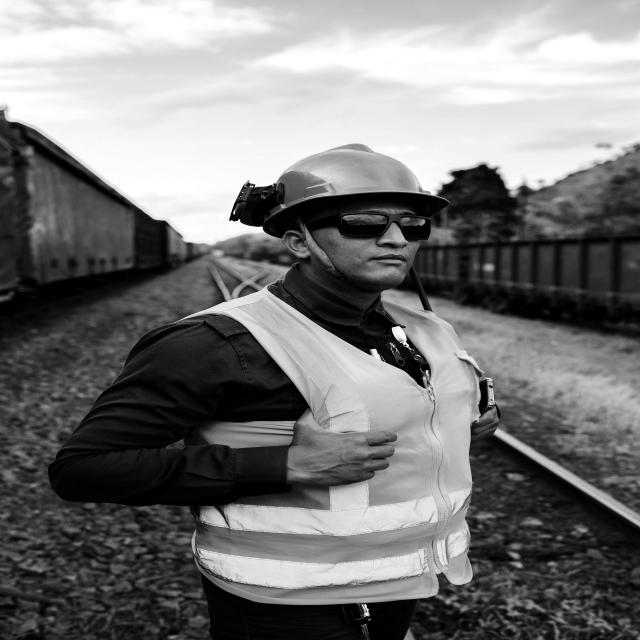Vest: (182, 295, 484, 606)
